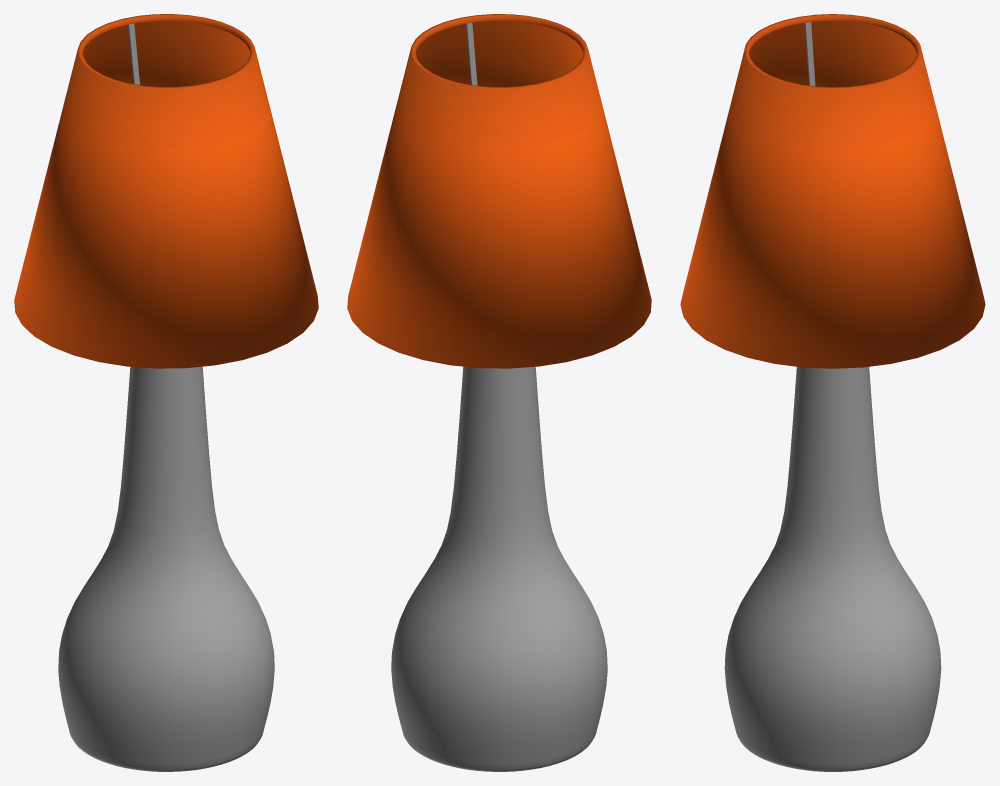
File: livingroom_lamp1.obj
3 renders of one model, left to right at view 1: azimuth 30°, elevation 25°; view 2: azimuth 150°, elevation 25°; view 3: azimuth 270°, elevation 25°, orthographic.
Parts seen in each view (by area): view 1: lampshade_off_mul_lampshade_off_mul_lampshade_off_mul_multilamps, ceramicbase_ceramicbase_ceramicbase.001, lampshade_off_multila_lampshade_off_multila_lampshade_off_mul_mu; view 2: lampshade_off_mul_lampshade_off_mul_lampshade_off_mul_multilamps, ceramicbase_ceramicbase_ceramicbase.001, lampshade_off_multila_lampshade_off_multila_lampshade_off_mul_mu; view 3: lampshade_off_mul_lampshade_off_mul_lampshade_off_mul_multilamps, ceramicbase_ceramicbase_ceramicbase.001, lampshade_off_multila_lampshade_off_multila_lampshade_off_mul_mu.
Boxes of the visible parts, x1,y1,x2,y2 form: lampshade_off_mul_lampshade_off_mul_lampshade_off_mul_multilamps: [14, 14, 318, 368]; ceramicbase_ceramicbase_ceramicbase.001: [58, 366, 274, 771]; lampshade_off_multila_lampshade_off_multila_lampshade_off_mul_mu: [14, 14, 317, 368]; lampshade_off_mul_lampshade_off_mul_lampshade_off_mul_multilamps: [347, 14, 651, 368]; ceramicbase_ceramicbase_ceramicbase.001: [391, 366, 607, 771]; lampshade_off_multila_lampshade_off_multila_lampshade_off_mul_mu: [347, 14, 651, 368]; lampshade_off_mul_lampshade_off_mul_lampshade_off_mul_multilamps: [680, 14, 985, 368]; ceramicbase_ceramicbase_ceramicbase.001: [724, 366, 941, 771]; lampshade_off_multila_lampshade_off_multila_lampshade_off_mul_mu: [681, 14, 984, 368].
Bounding box in the file's own units: 27.16 × 66.94 × 27.16.
